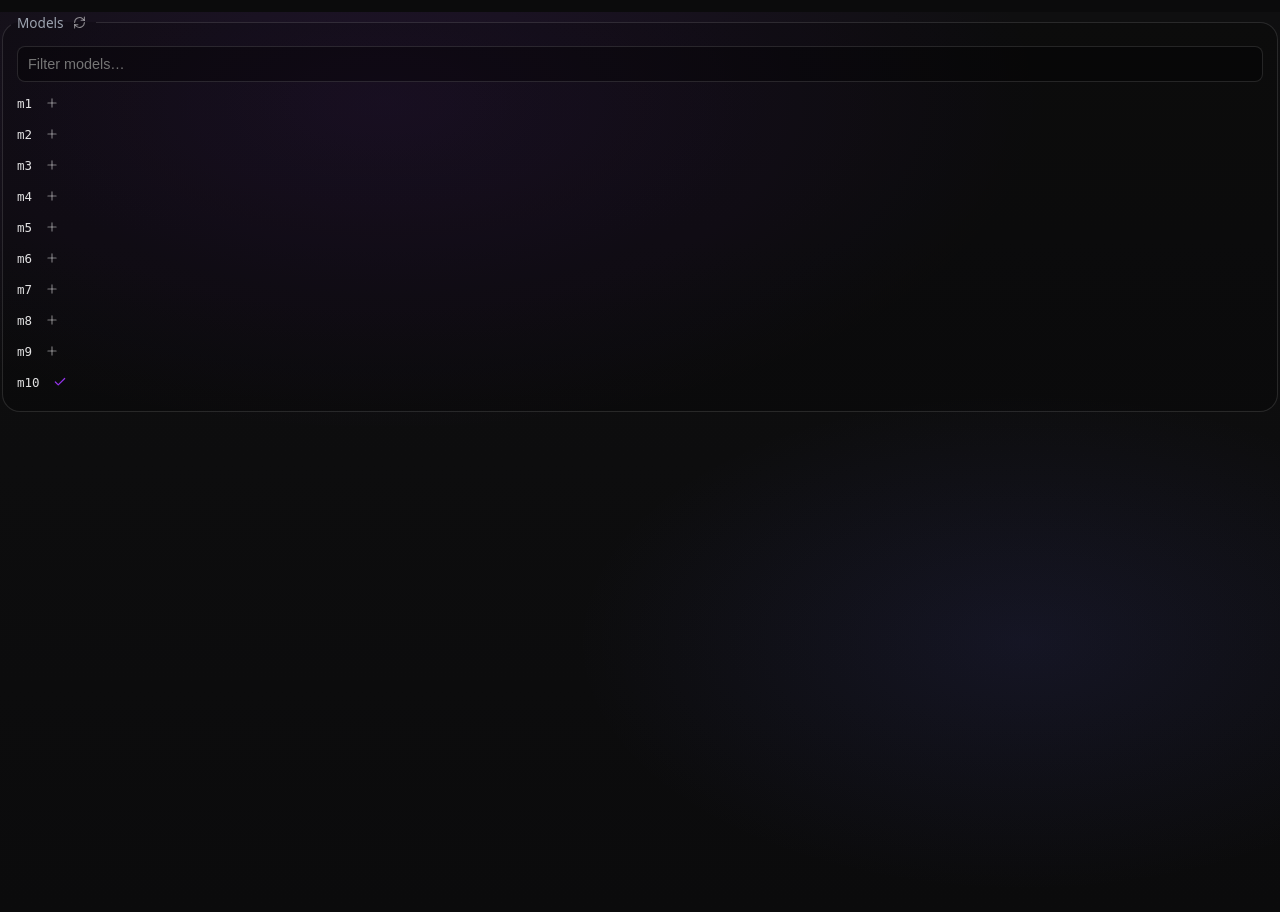
Test: a long list gets a filter that narrows the rows
Check: the list item with test id "provider-model-m1" is shown, box [17,91,64,115]
Step 1. Type "M1" into the field with test id "provider-models-filter" → [640, 64], box [17,46,1263,82]
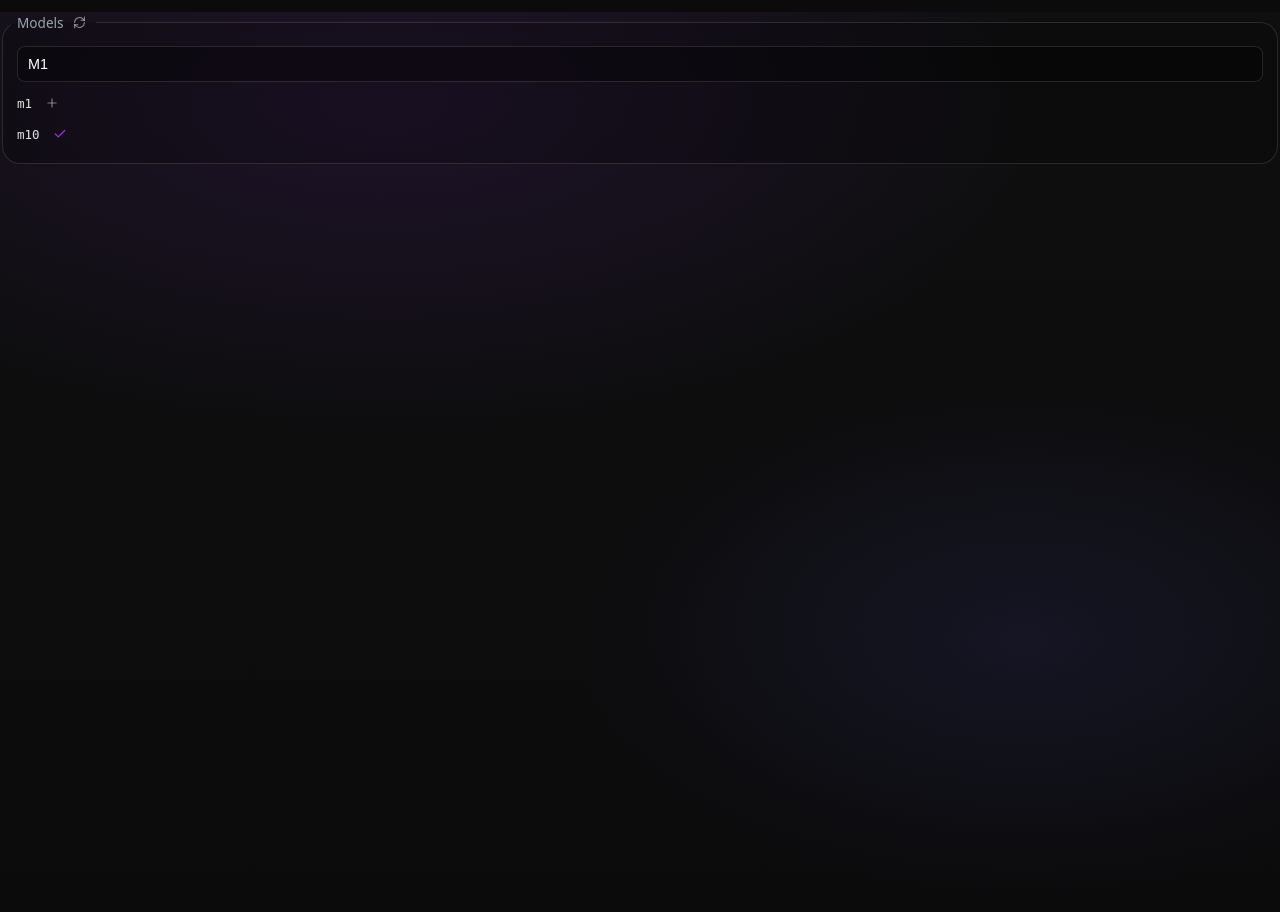
Step 2. Replace the text in the field with test id "provider-models-filter" with "nothing" → [640, 64], box [17,46,1263,82]
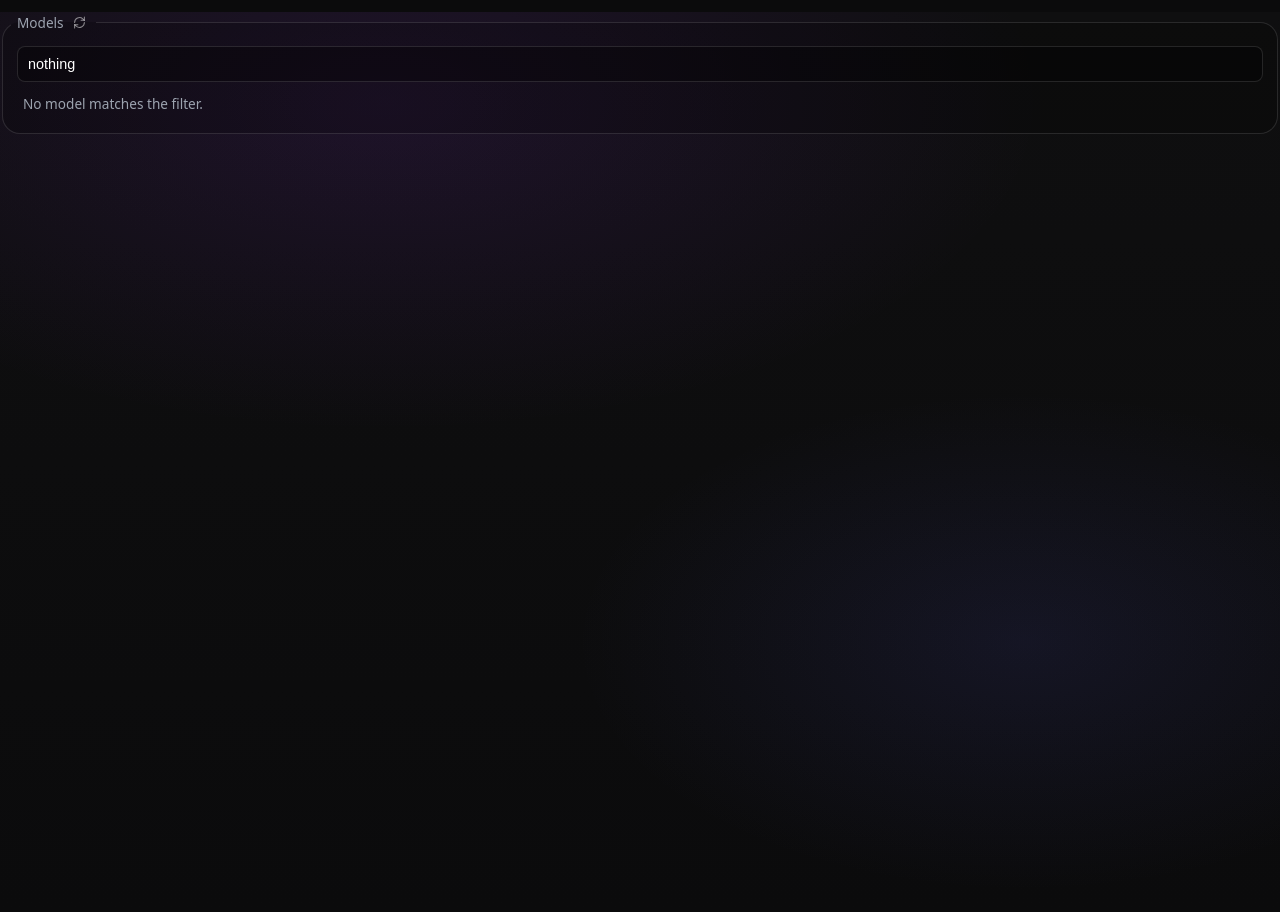
Check: the list item "No model matches the filter." is shown, box [23,94,203,113]
